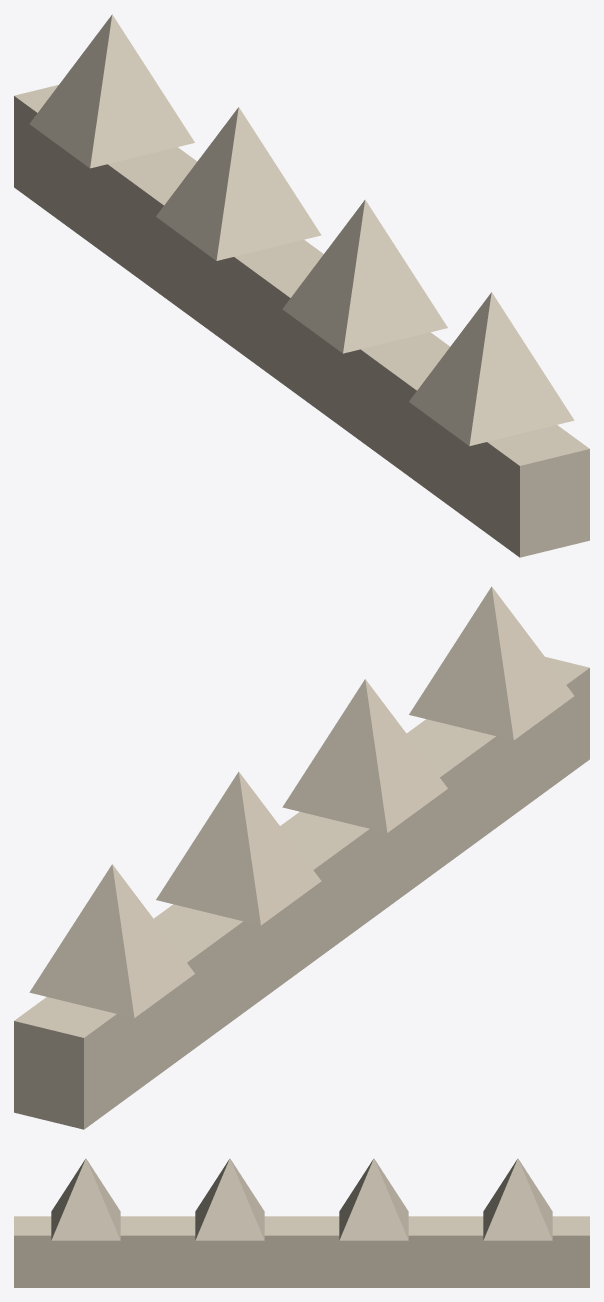
File: merlon-pointed.glb
3 views of the same model, one above another, from view 1: azimuth 30°, elevation 25°; view 2: azimuth 150°, elevation 25°; view 3: azimuth 270°, elevation 25° (orthographic). The views are drawn at different scales.
Parts seen in each view (by area): view 1: merlon-pointed; view 2: merlon-pointed; view 3: merlon-pointed.
Boxes of the visible parts, x1=… form: merlon-pointed: x1=14, y1=14, x2=589, y2=557; merlon-pointed: x1=14, y1=586, x2=589, y2=1129; merlon-pointed: x1=14, y1=1158, x2=589, y2=1287.
Bounding box in the file's own units: 0.12 × 0.23 × 1.
